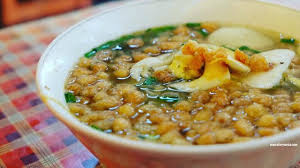soto: (50, 5, 300, 160)
